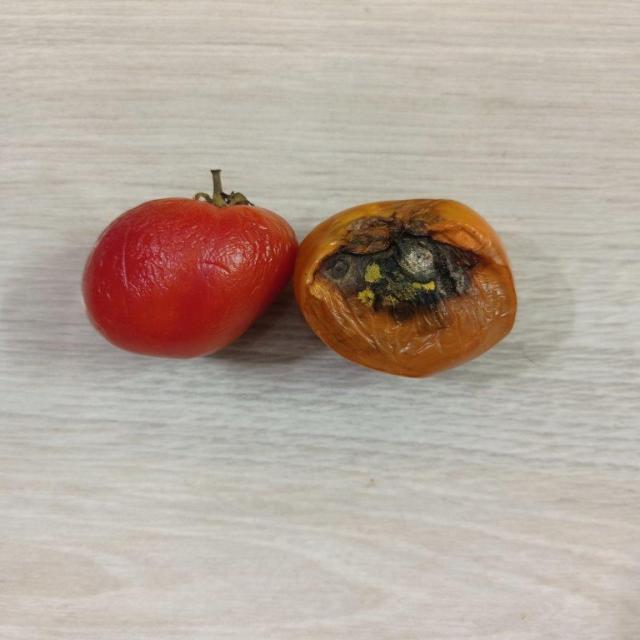Rotten: (294, 195, 518, 378)
overripe: (80, 198, 297, 360)
